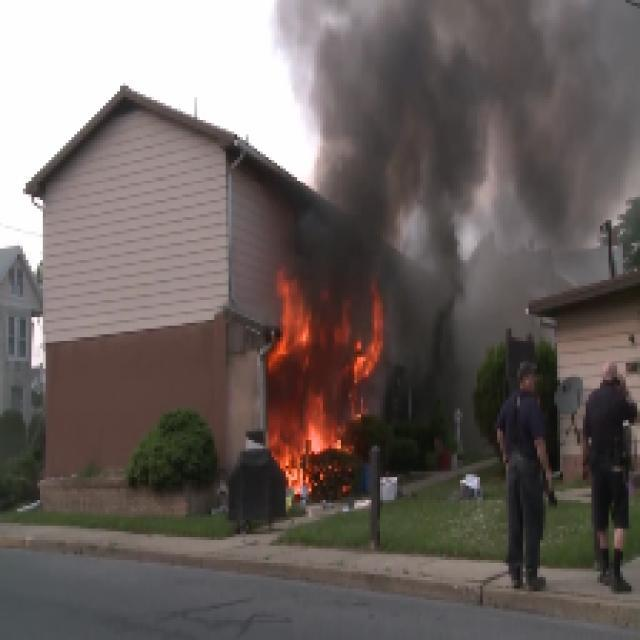Fire: (260, 257, 403, 517)
Smoke: (257, 0, 640, 323)
